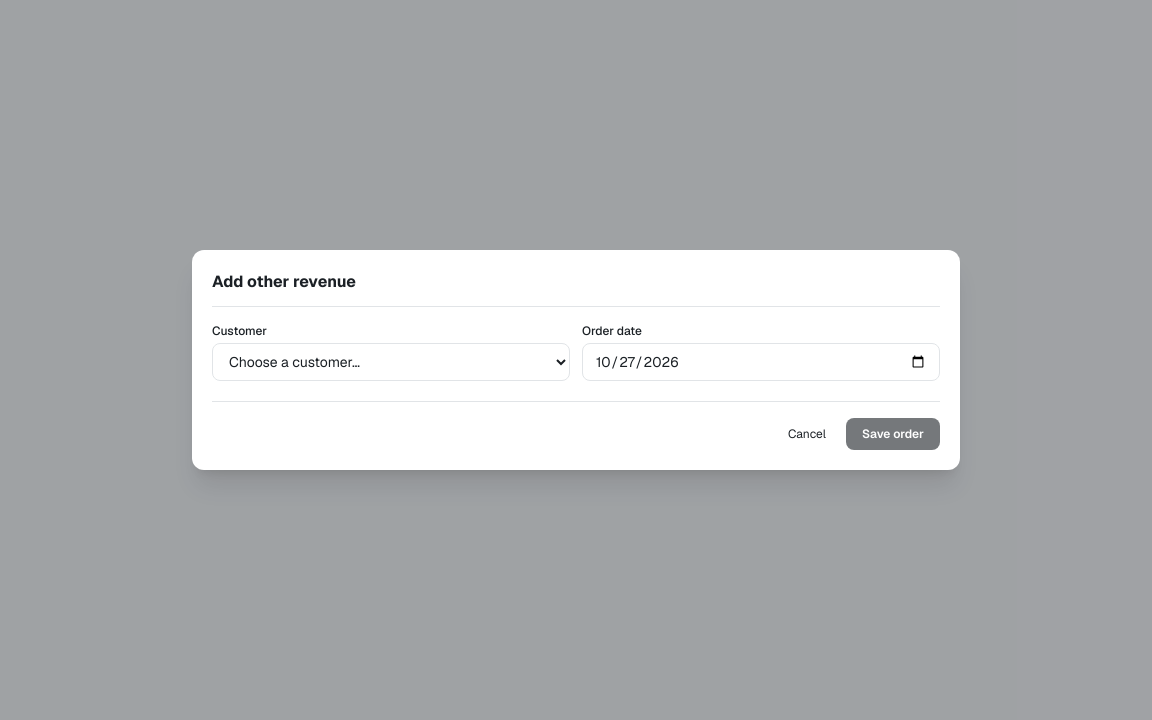
Test case: OrderModal › fills in the agreed price and shows the line total as you type
Select "Nordic Retail AS - Mazzetti.no (EUR)" in the dropdown labelled "Customer" at [391, 362], box [212,343,570,381]
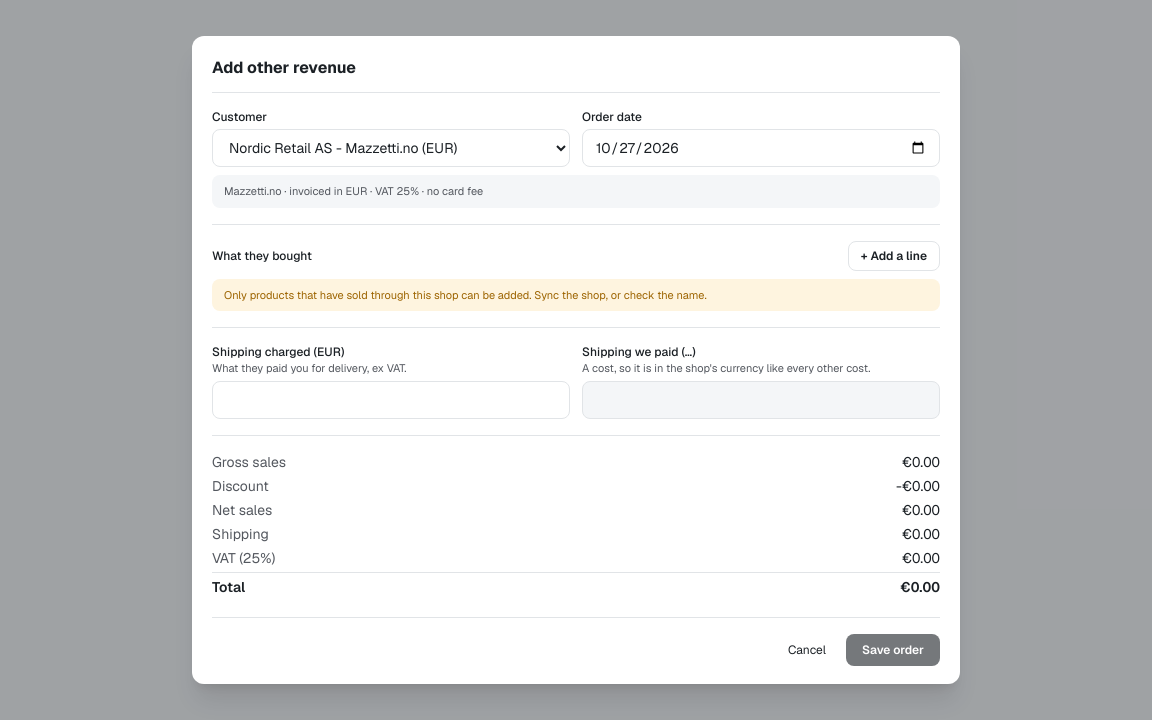
Click the button "+ Add a line" at [894, 256], box [848,240,940,270]
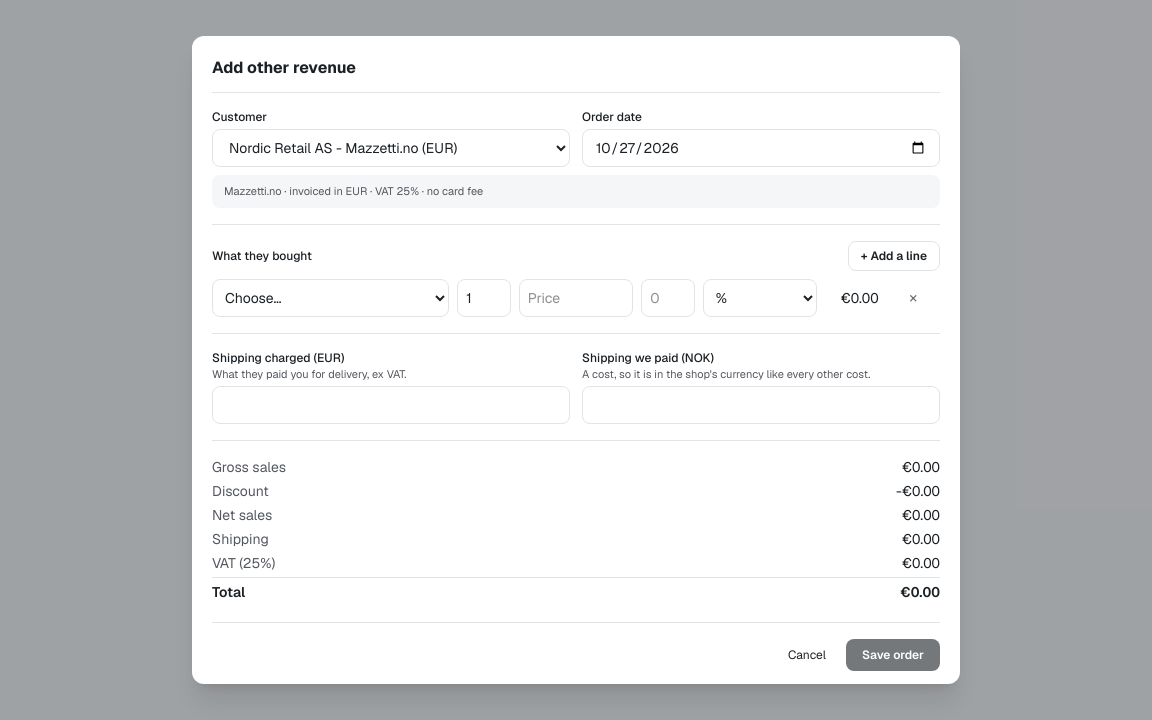
Select "Massage gun (SKU-1)" in the dropdown named "Product 1" at [331, 298], box [212,278,449,316]
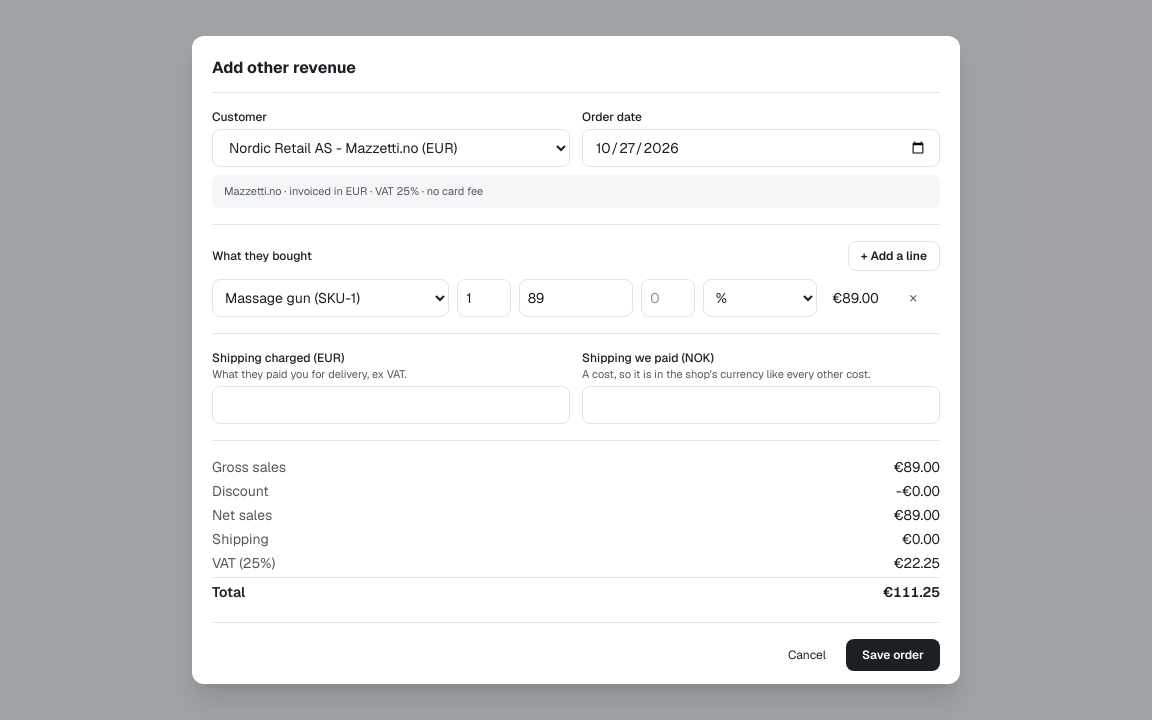
Now the number field named "Unit price 1" holds "89", box [519,278,633,316]
Replace the text in the number field named "Quantity 1" with "10" at [484, 298], box [457,278,511,316]
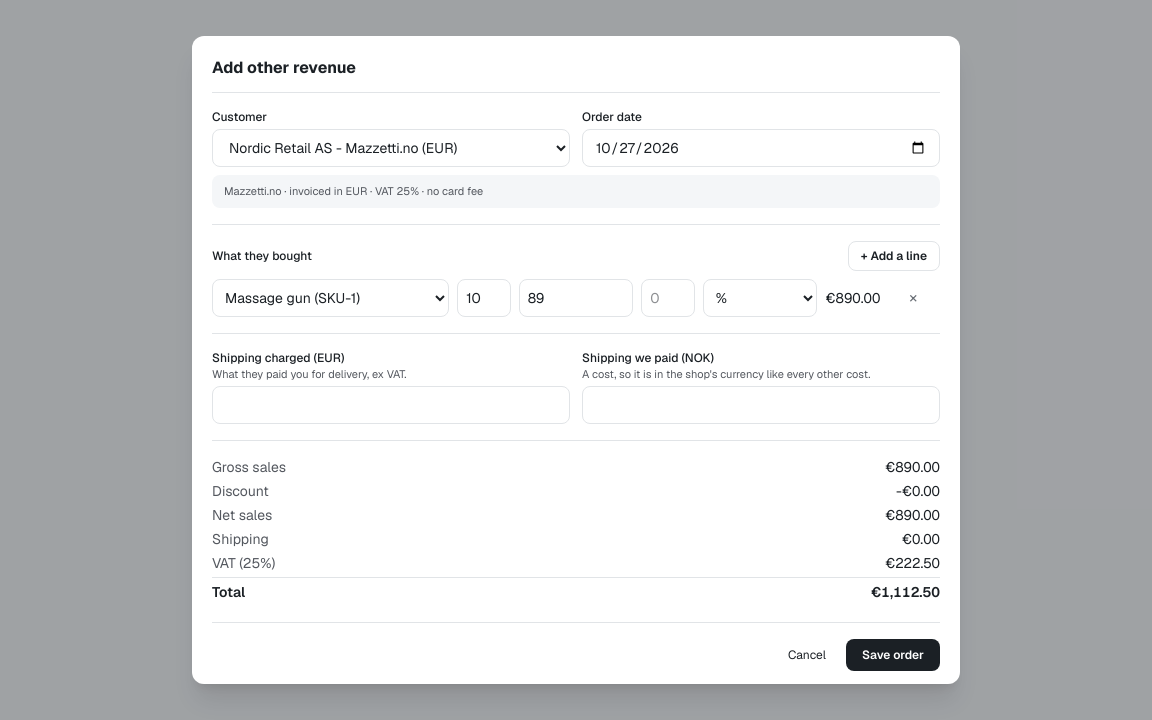
Now the text with test id "line-total-1" shows "890.00", box [825,288,880,306]
